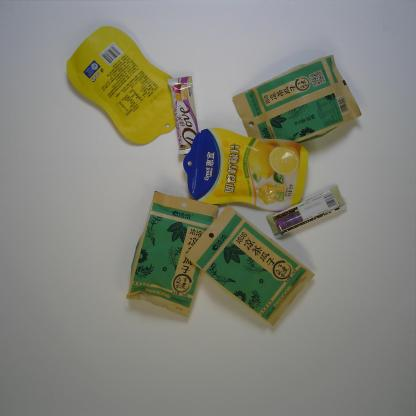Chocolate: (266, 185, 347, 238), (167, 75, 202, 156)
Dried Food: (184, 203, 316, 327), (232, 55, 362, 151), (126, 190, 219, 318)
Dried Fruit: (66, 26, 187, 144), (181, 126, 310, 211)
